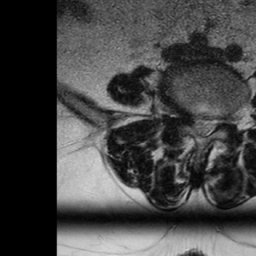CCS_stenosis: (201, 108, 208, 144)
LFS_stenosis: (216, 105, 226, 134)
LLS_normal: (208, 109, 216, 140)
RFS_severe_stenosis: (183, 104, 192, 133)
RLS_normal: (192, 110, 201, 139)
